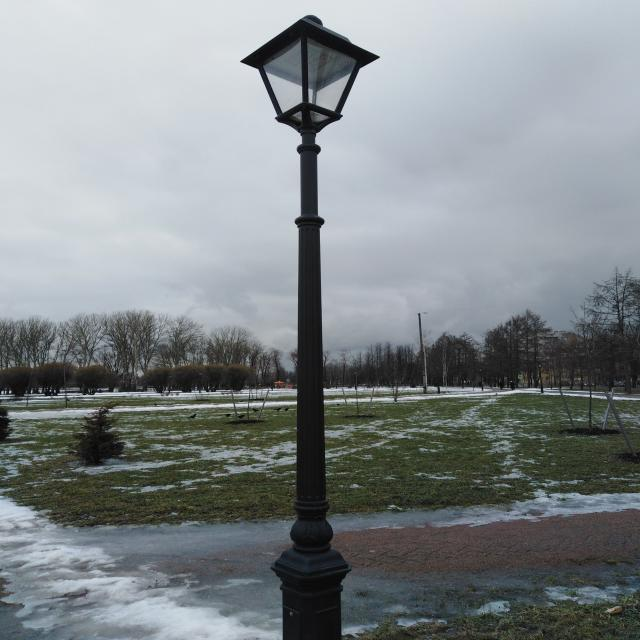off: (209, 12, 386, 135)
